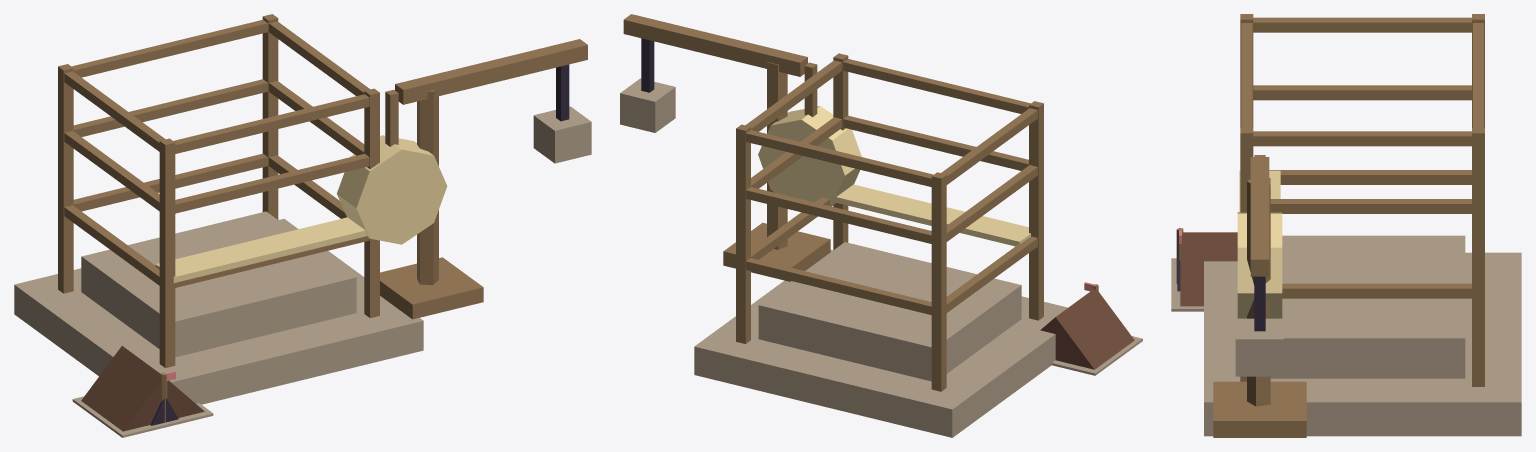
File: medieval-build-1.glb
The picture shows the model from 3 angles, left to right: view 1: azimuth 30°, elevation 25°; view 2: azimuth 150°, elevation 25°; view 3: azimuth 270°, elevation 25°; orthographic projection. The views are drawn at different scales.
Visible parts, largest first — view 1: medieval-build-1; view 2: medieval-build-1; view 3: medieval-build-1.
Boxes of the visible parts, x1,y1,x2,y2 form: medieval-build-1: (14, 14, 591, 437); medieval-build-1: (620, 14, 1142, 437); medieval-build-1: (1171, 14, 1521, 437).
Bounding box in the file's own units: 3.52 × 1.7 × 1.87.
